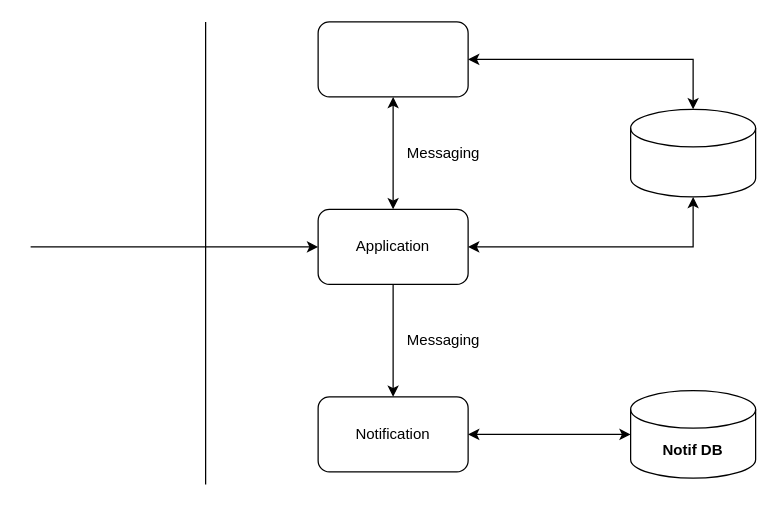
Some shapes in this 778 by 508 pixel diagram are drawn without their labels. Here are the shapes that lost their labels. From the top down, the centre of each, then its label:
At (x=392, y=59): "Auth manager".
At (x=692, y=152): "App DB".
